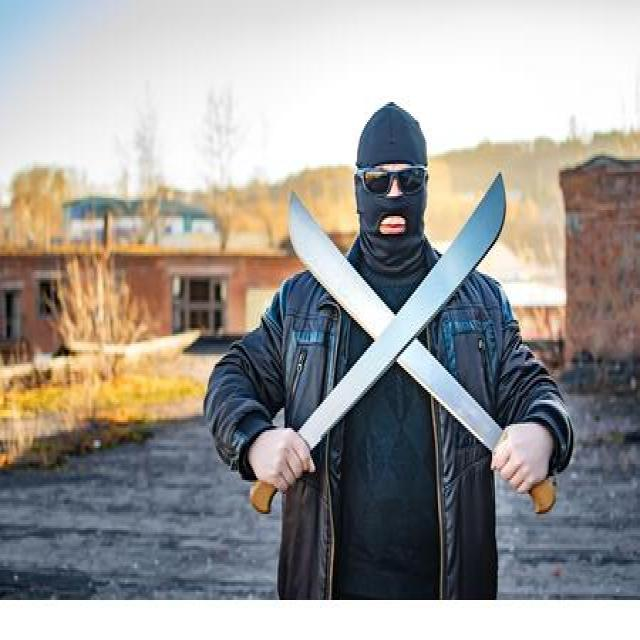6_pasamontana: (353, 100, 432, 276)
